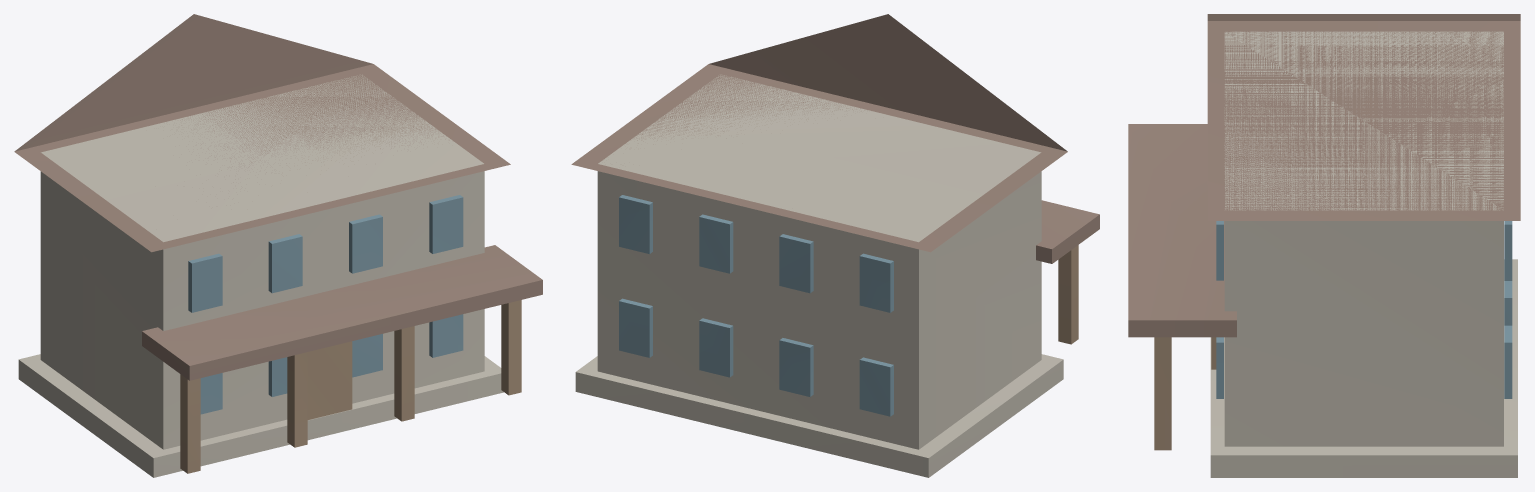
File: market-02.glb
3 renders of one model, left to right at view 1: azimuth 30°, elevation 25°; view 2: azimuth 150°, elevation 25°; view 3: azimuth 270°, elevation 25°, orthographic. The views are drawn at different scales.
Parts seen in each view (by area): view 1: world; view 2: world; view 3: world.
Part boxes in pixels (x1,y1,x2,y2): world: (14,14,542,477); world: (571,14,1099,477); world: (1128,14,1520,477).
Bounding box in the file's own units: 1.52 × 1.3 × 1.26.
